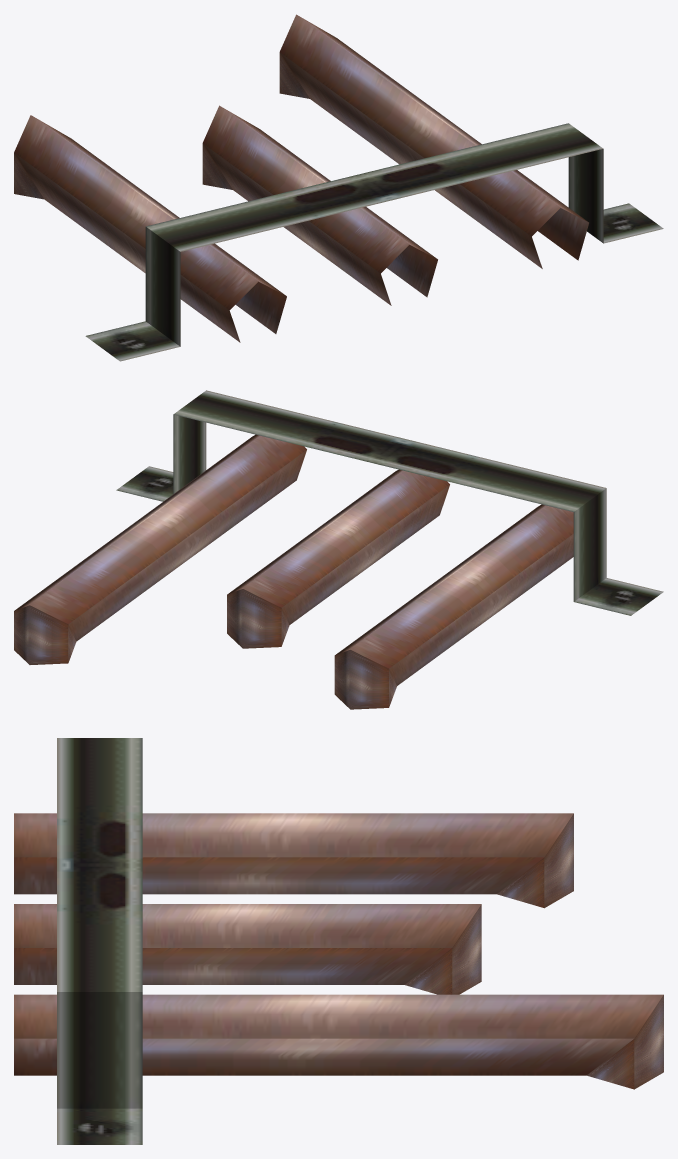
File: ceiling_pipe_end.fbx
3 views of the same model, one above another, from view 1: azimuth 30°, elevation 25°; view 2: azimuth 150°, elevation 25°; view 3: azimuth 270°, elevation 25° (orthographic). The views are drawn at different scales.
Parts seen in each view (by area): view 1: mesh_0; view 2: mesh_0; view 3: mesh_0.
Part boxes in pixels (box(x1,y1,x2,y2)): mesh_0: box(14, 14, 663, 361); mesh_0: box(14, 390, 663, 709); mesh_0: box(14, 738, 663, 1144).
Bounding box in the file's own units: 36 × 6 × 30.3.
1 material, 1 textured.
